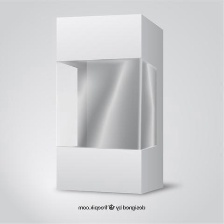plastic_box: (46, 7, 173, 201)
